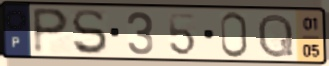0: (218, 10, 250, 60)
3: (125, 10, 155, 56)
5: (167, 11, 199, 57)
P: (31, 6, 72, 57)
Q: (256, 11, 296, 60)
S: (70, 7, 110, 57)
